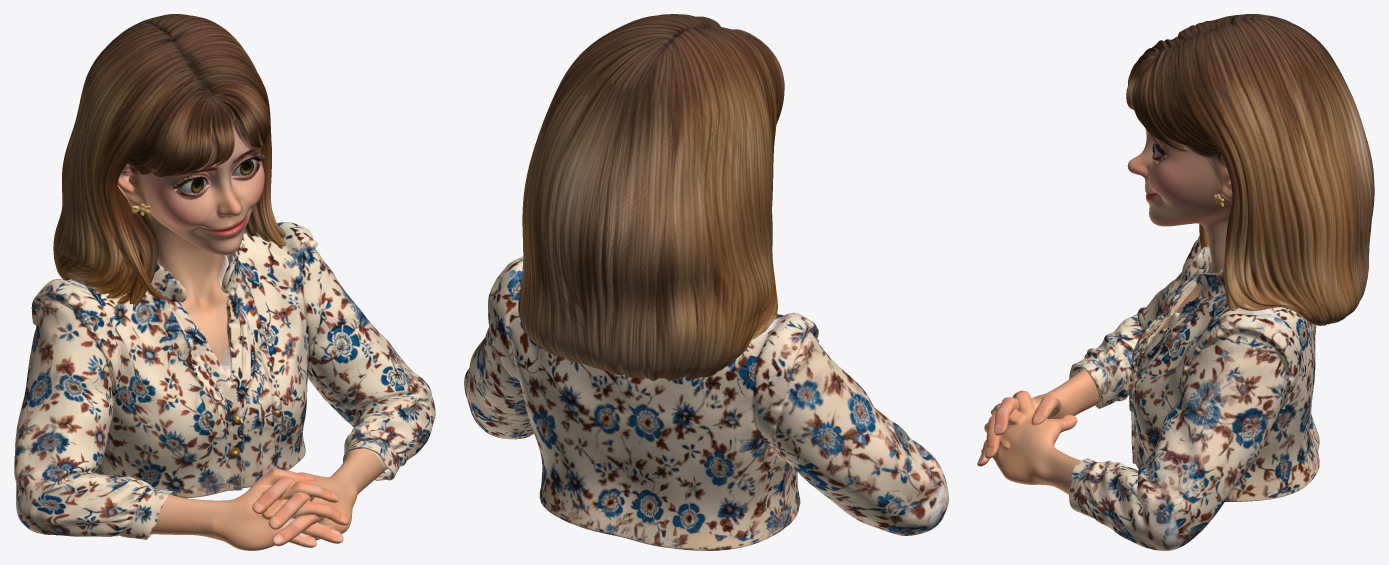
File: mujer.glb
3 renders of one model, left to right at view 1: azimuth 30°, elevation 25°; view 2: azimuth 150°, elevation 25°; view 3: azimuth 270°, elevation 25°, orthographic. The views are drawn at different scales.
Bounding box in the file's own units: 1.9 × 1.9 × 1.57.
1 material, 1 textured.
